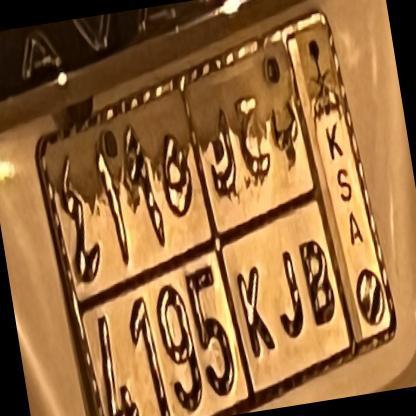english: (71, 219, 352, 416)
